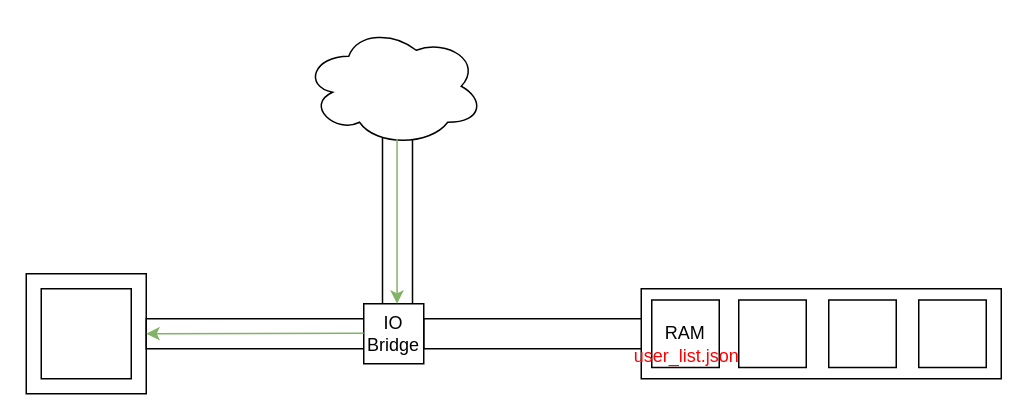
Image size: 1028x420. Some labels were removed from this diagram. The shapes that lost their labels are listed below. From the top down, each one's centre as x and y in pixels, then its label:
[393,85]: NetWork
[85,333]: CPU
